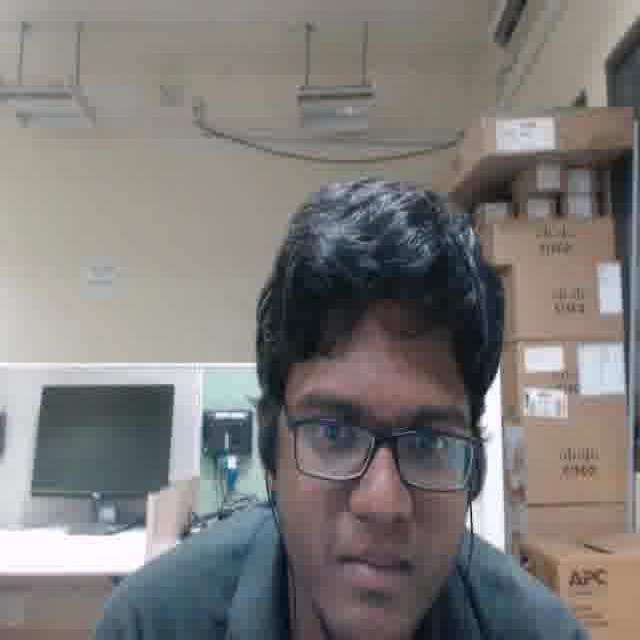Engaged: (279, 316, 469, 640)
